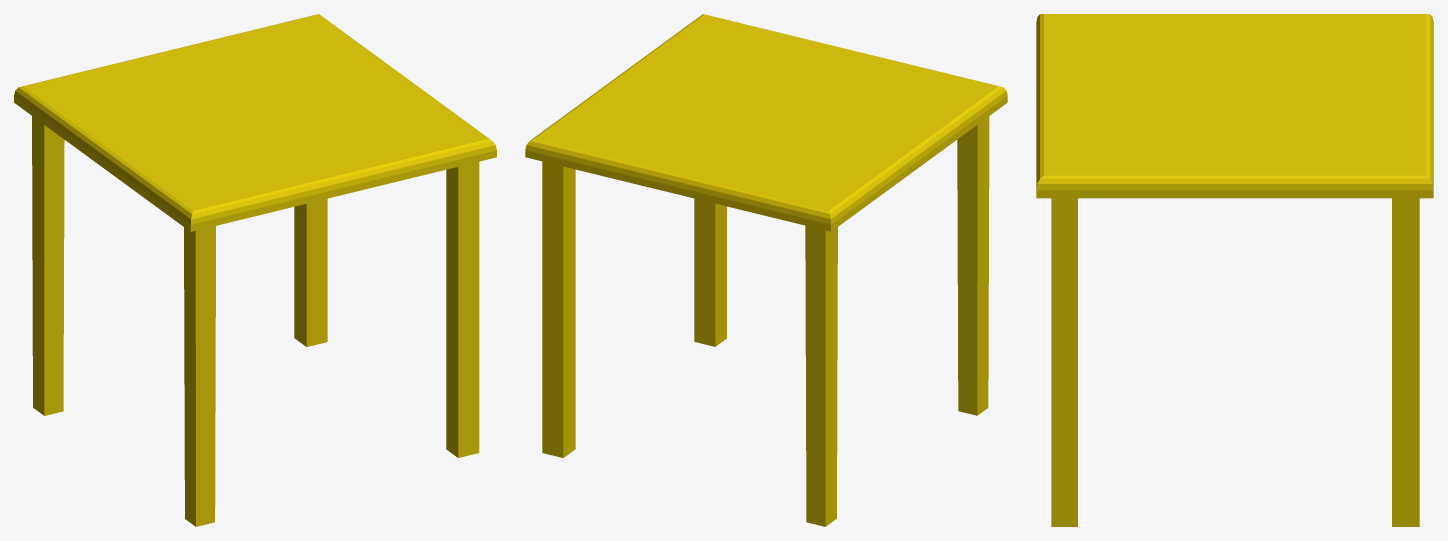
The model's file is RegularTable.fbx.
3 renders of one model, left to right at view 1: azimuth 30°, elevation 25°; view 2: azimuth 150°, elevation 25°; view 3: azimuth 270°, elevation 25°, orthographic. The views are drawn at different scales.
Parts seen in each view (by area): view 1: Cube; view 2: Cube; view 3: Cube.
Boxes of the visible parts, left/top/right/bottom form: Cube: left=14, top=14, right=496, bottom=526; Cube: left=525, top=14, right=1007, bottom=526; Cube: left=1036, top=14, right=1433, bottom=526.
Bounding box in the file's own units: 100 × 100 × 100.
